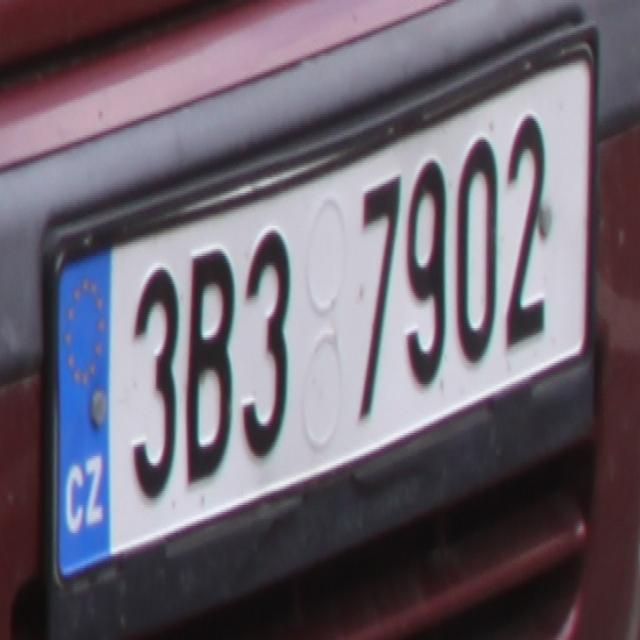0: (456, 133, 500, 363)
2: (507, 119, 554, 351)
3: (241, 221, 292, 456), (132, 265, 178, 512)
7: (354, 170, 401, 426)
9: (405, 156, 448, 393)
B: (181, 237, 236, 489)
